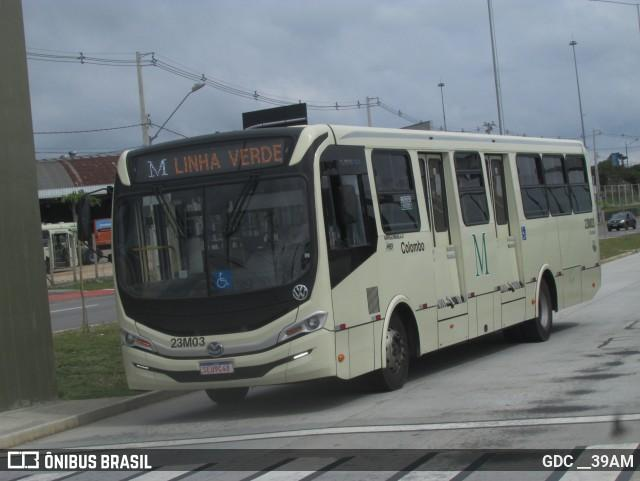LINHA VERDE: (170, 142, 287, 177)
